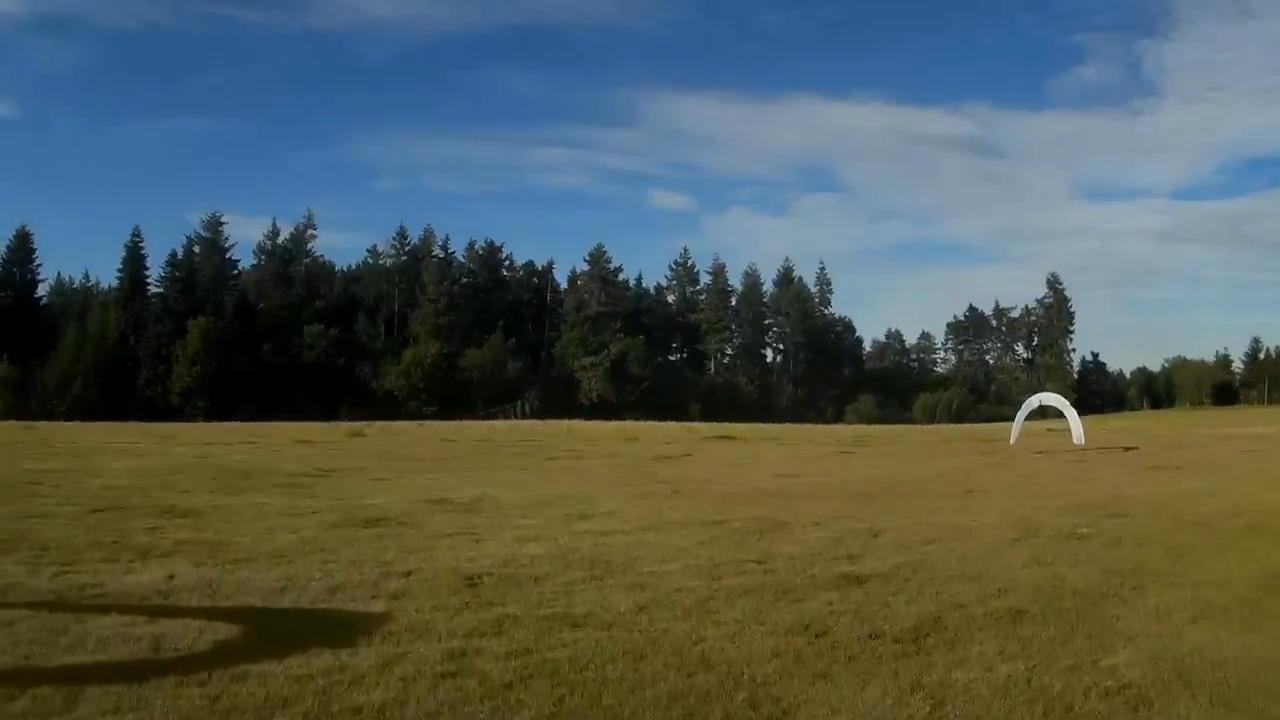gate: (1010, 392, 1084, 448)
